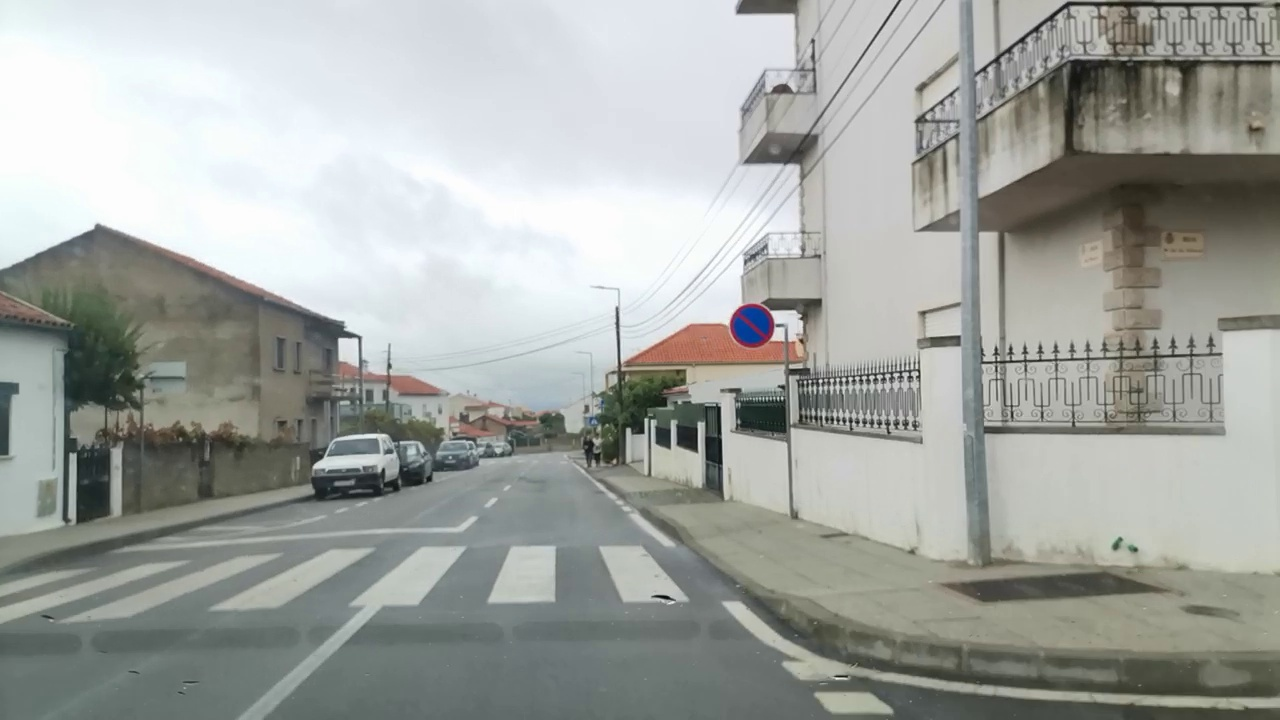Stairs: (0, 540, 691, 623)
